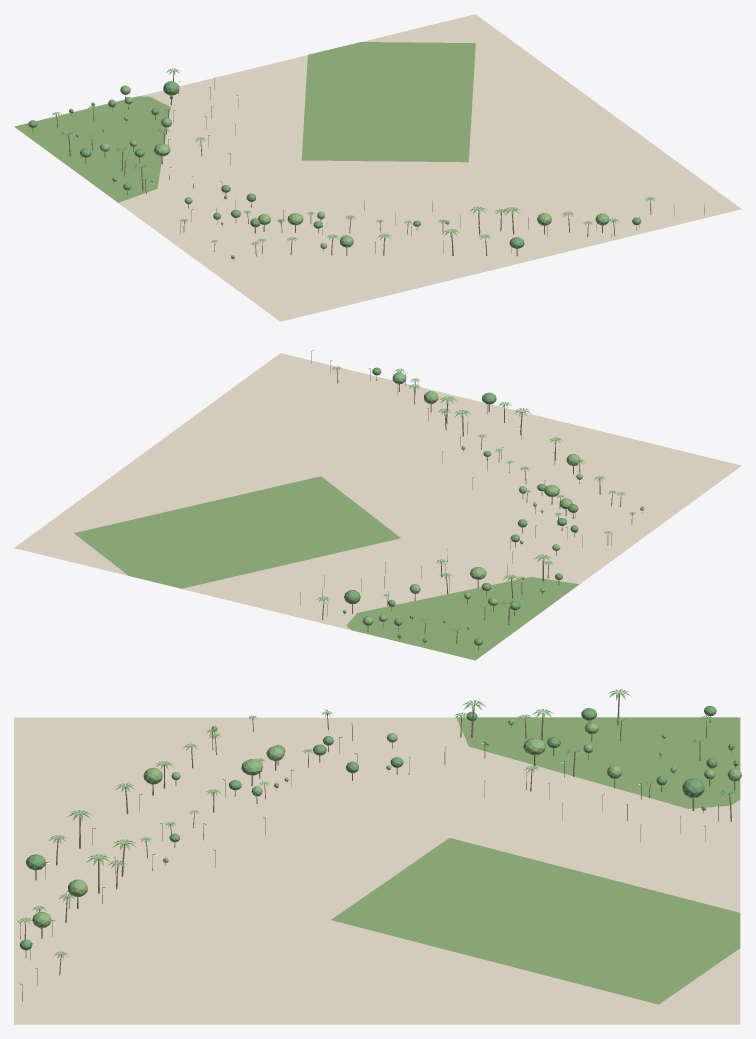
Rendered from nature_-5_-4.glb.
3 views of the same model, one above another, from view 1: azimuth 30°, elevation 25°; view 2: azimuth 150°, elevation 25°; view 3: azimuth 270°, elevation 25° (orthographic). The views are drawn at different scales.
Parts seen in each view (by area): view 1: ground, grass, foliage_b, palm_leaf, foliage_a, trunk; view 2: ground, grass, foliage_b, palm_leaf, foliage_a, trunk; view 3: ground, grass, foliage_b, palm_leaf, foliage_a, trunk, lamp_pole.
Boxes of the visible parts, left/top/right/bottom form: ground: left=15, top=14, right=741, bottom=321; grass: left=14, top=42, right=475, bottom=202; foliage_b: left=76, top=85, right=609, bottom=258; palm_leaf: left=52, top=68, right=655, bottom=245; foliage_a: left=28, top=81, right=641, bottom=248; trunk: left=32, top=71, right=651, bottom=260; ground: left=14, top=353, right=741, bottom=660; grass: left=74, top=476, right=579, bottom=660; foliage_b: left=363, top=372, right=644, bottom=629; palm_leaf: left=317, top=366, right=635, bottom=632; foliage_a: left=343, top=367, right=578, bottom=645; trunk: left=322, top=369, right=642, bottom=650; ground: left=14, top=717, right=740, bottom=1024; grass: left=331, top=717, right=740, bottom=1004; foliage_b: left=32, top=719, right=741, bottom=927; palm_leaf: left=17, top=689, right=739, bottom=958; foliage_a: left=19, top=706, right=738, bottom=950; trunk: left=24, top=693, right=735, bottom=975; lamp_pole: left=17, top=709, right=718, bottom=1001.
Size of the model in its own units: 250 by 13.36 by 251.
